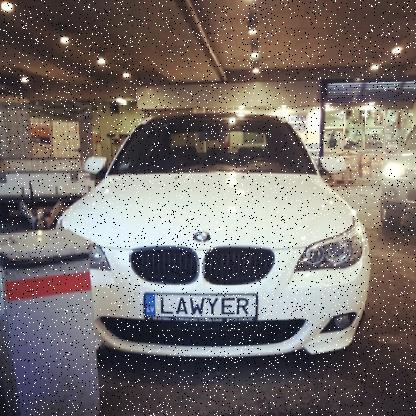licence: (143, 292, 258, 322)
